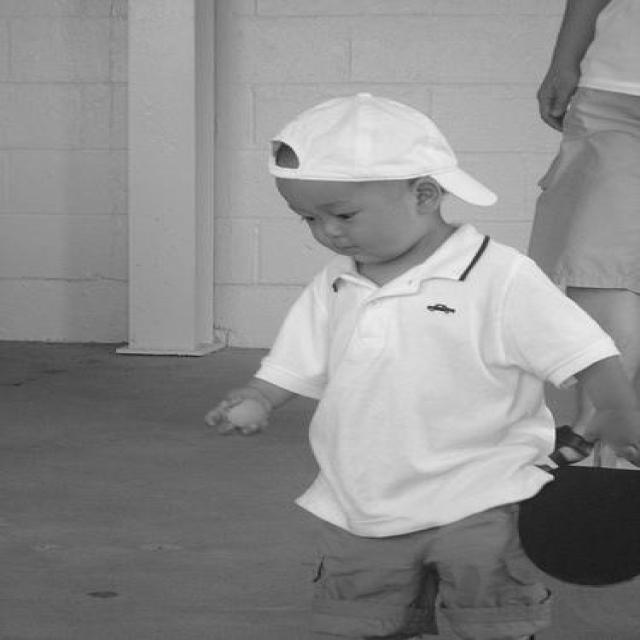ping-pong-ball: (226, 397, 268, 425)
